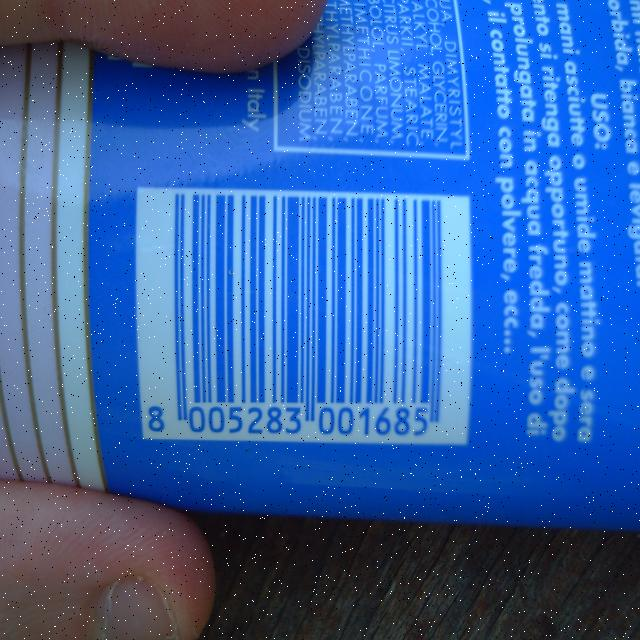barcode: (140, 196, 456, 436)
